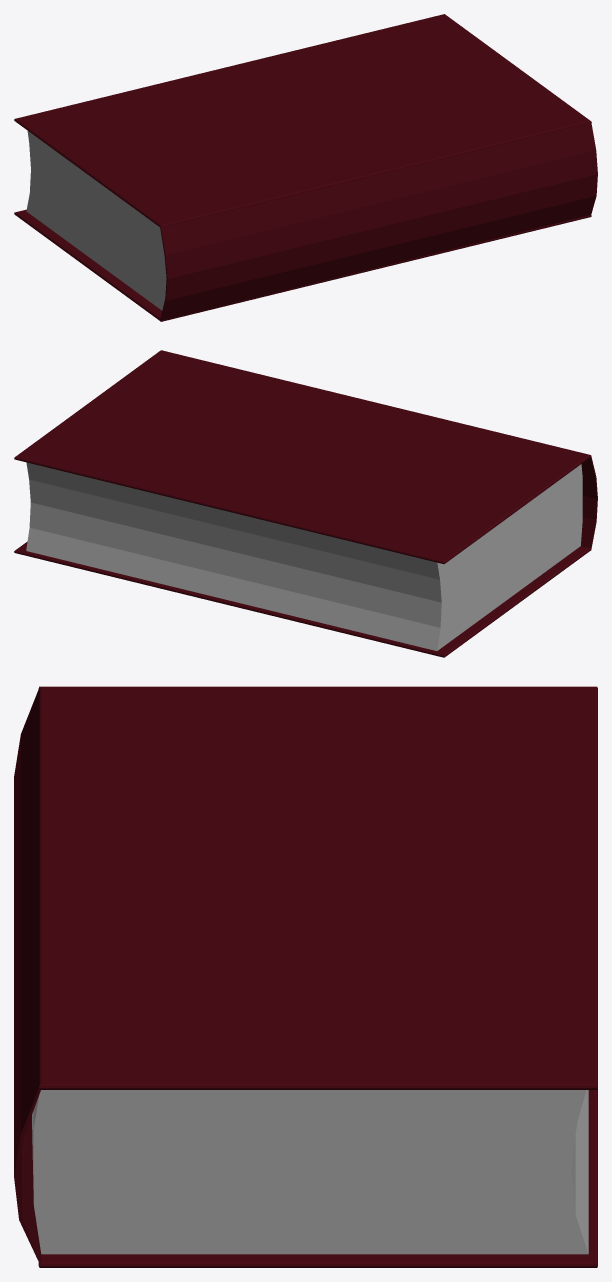
Rendered from libro.FBX.
3 views of the same model, one above another, from view 1: azimuth 30°, elevation 25°; view 2: azimuth 150°, elevation 25°; view 3: azimuth 270°, elevation 25° (orthographic). The views are drawn at different scales.
Parts seen in each view (by area): view 1: face_avant, tranche, pages, face_arrie; view 2: face_avant, pages, face_arrie, tranche; view 3: face_avant, pages, tranche, face_arrie.
Boxes of the visible parts, x1,y1,x2,y2 form: face_avant: [14, 14, 591, 227]; tranche: [160, 123, 597, 321]; pages: [26, 131, 166, 310]; face_arrie: [14, 209, 591, 321]; face_avant: [14, 350, 590, 564]; pages: [26, 462, 582, 650]; face_arrie: [14, 541, 590, 657]; tranche: [581, 457, 596, 548]; face_avant: [38, 686, 597, 1089]; pages: [32, 1090, 588, 1254]; tranche: [14, 690, 40, 1263]; face_arrie: [38, 1089, 597, 1267].
Size of the model in its own units: 44.74 by 9.58 by 27.58.
